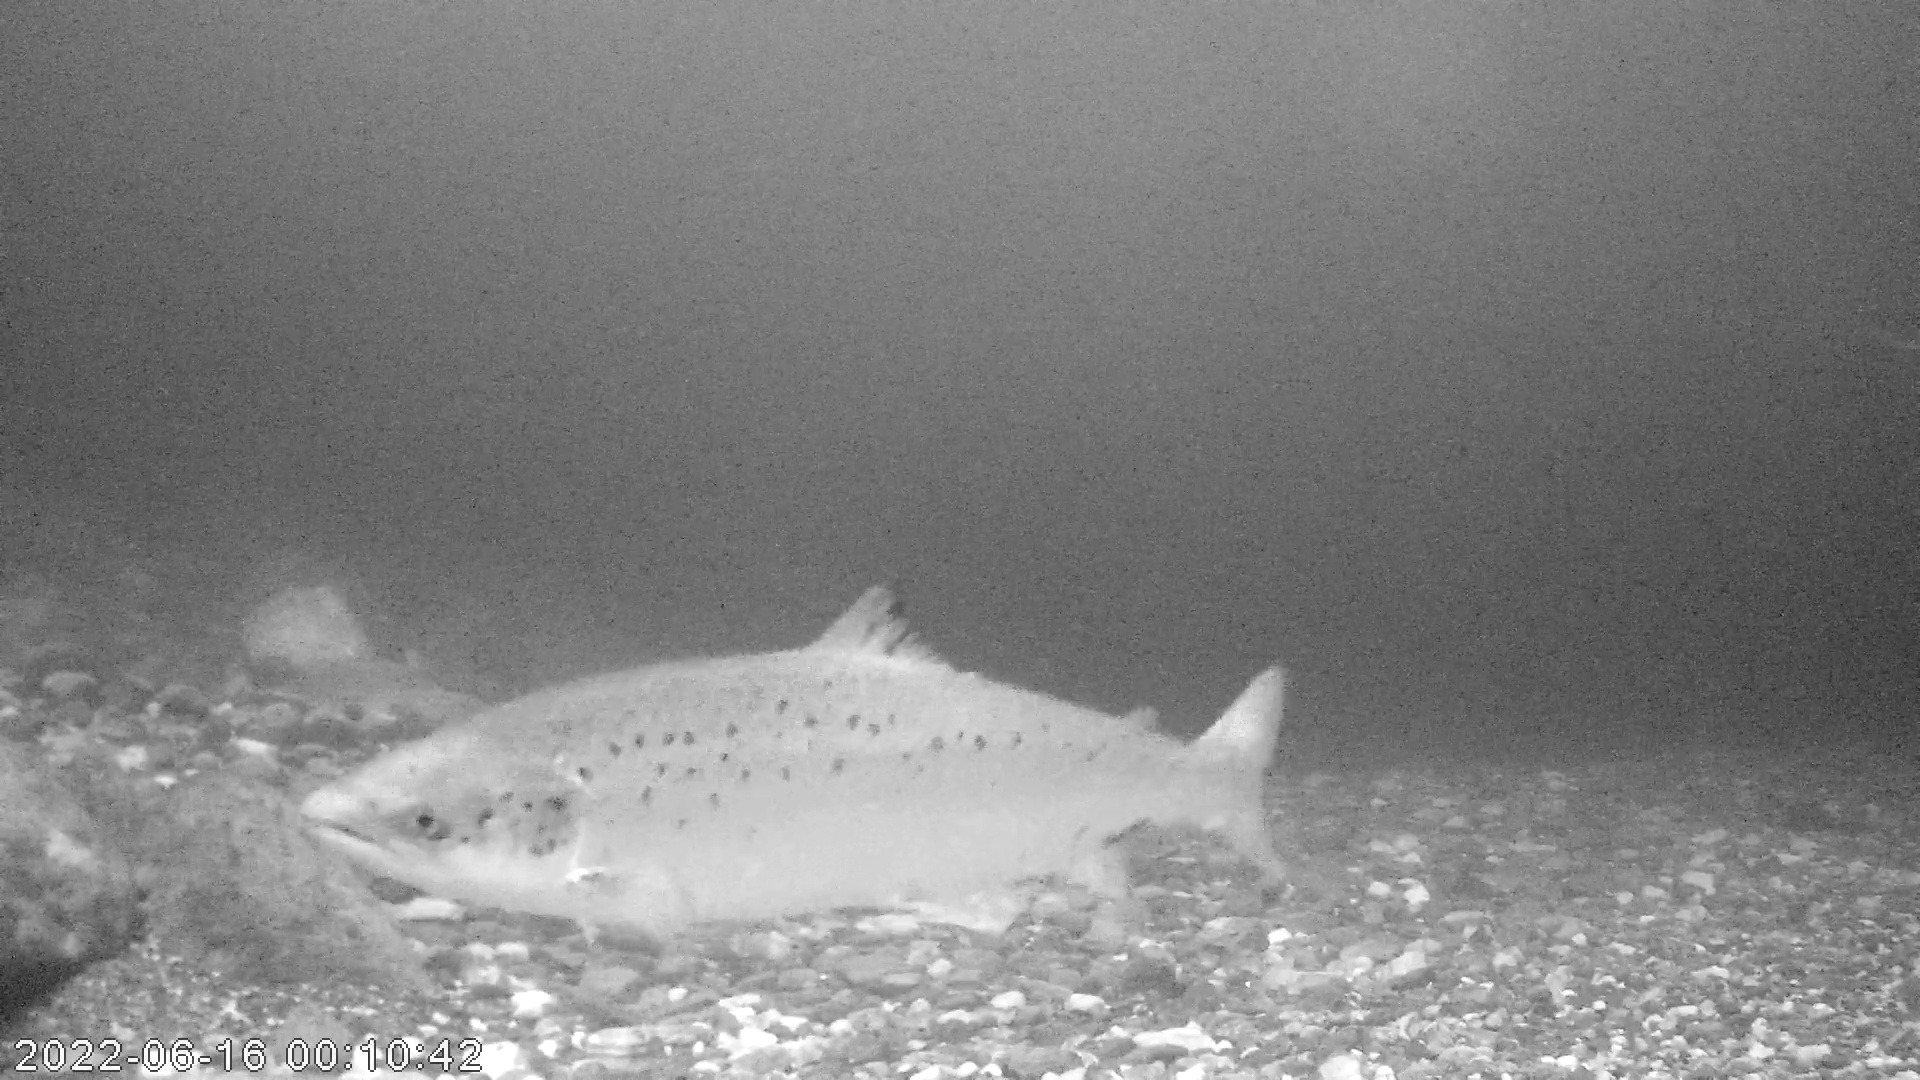salmon: (297, 576, 1292, 945)
